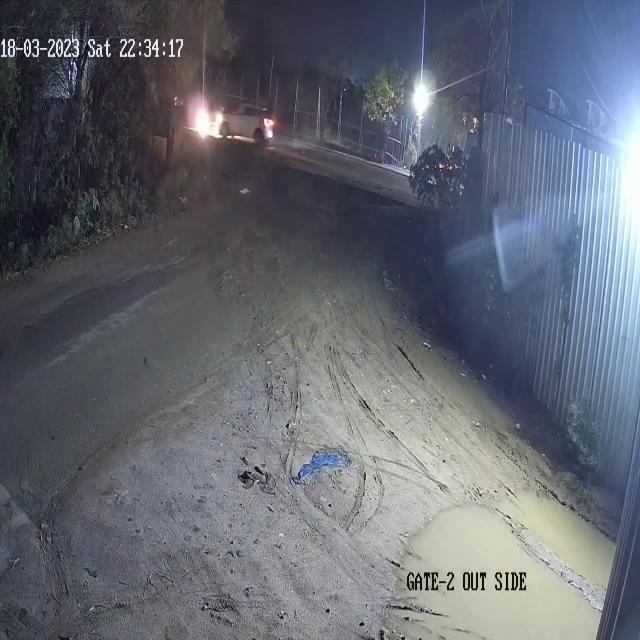accident: (175, 85, 281, 153)
